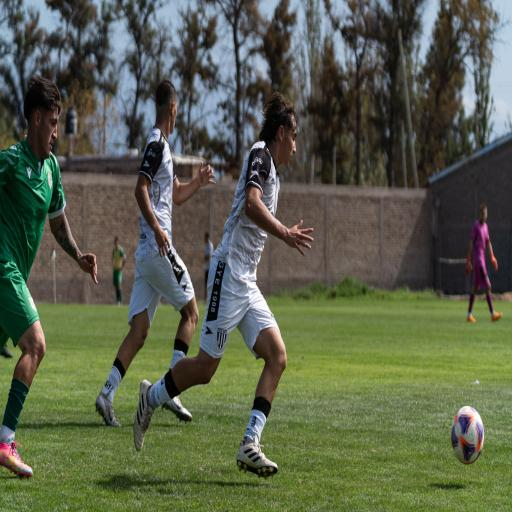shoe: (237, 438, 277, 479), (134, 380, 154, 451), (0, 442, 32, 477), (96, 392, 120, 426), (162, 397, 192, 422), (1, 346, 13, 358), (492, 312, 502, 321), (467, 315, 476, 322), (117, 301, 122, 307)
